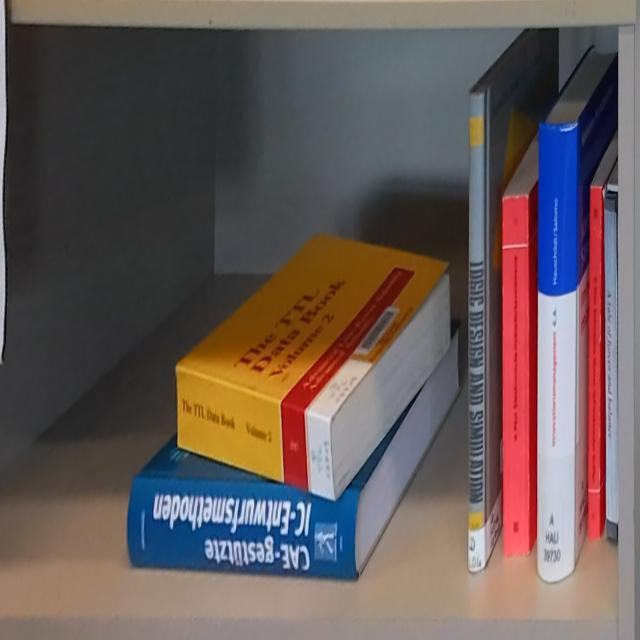Book Spine: (125, 475, 360, 579), (176, 365, 336, 504), (536, 121, 578, 587), (502, 197, 531, 560), (469, 96, 486, 576), (589, 187, 603, 541), (604, 197, 618, 545)
